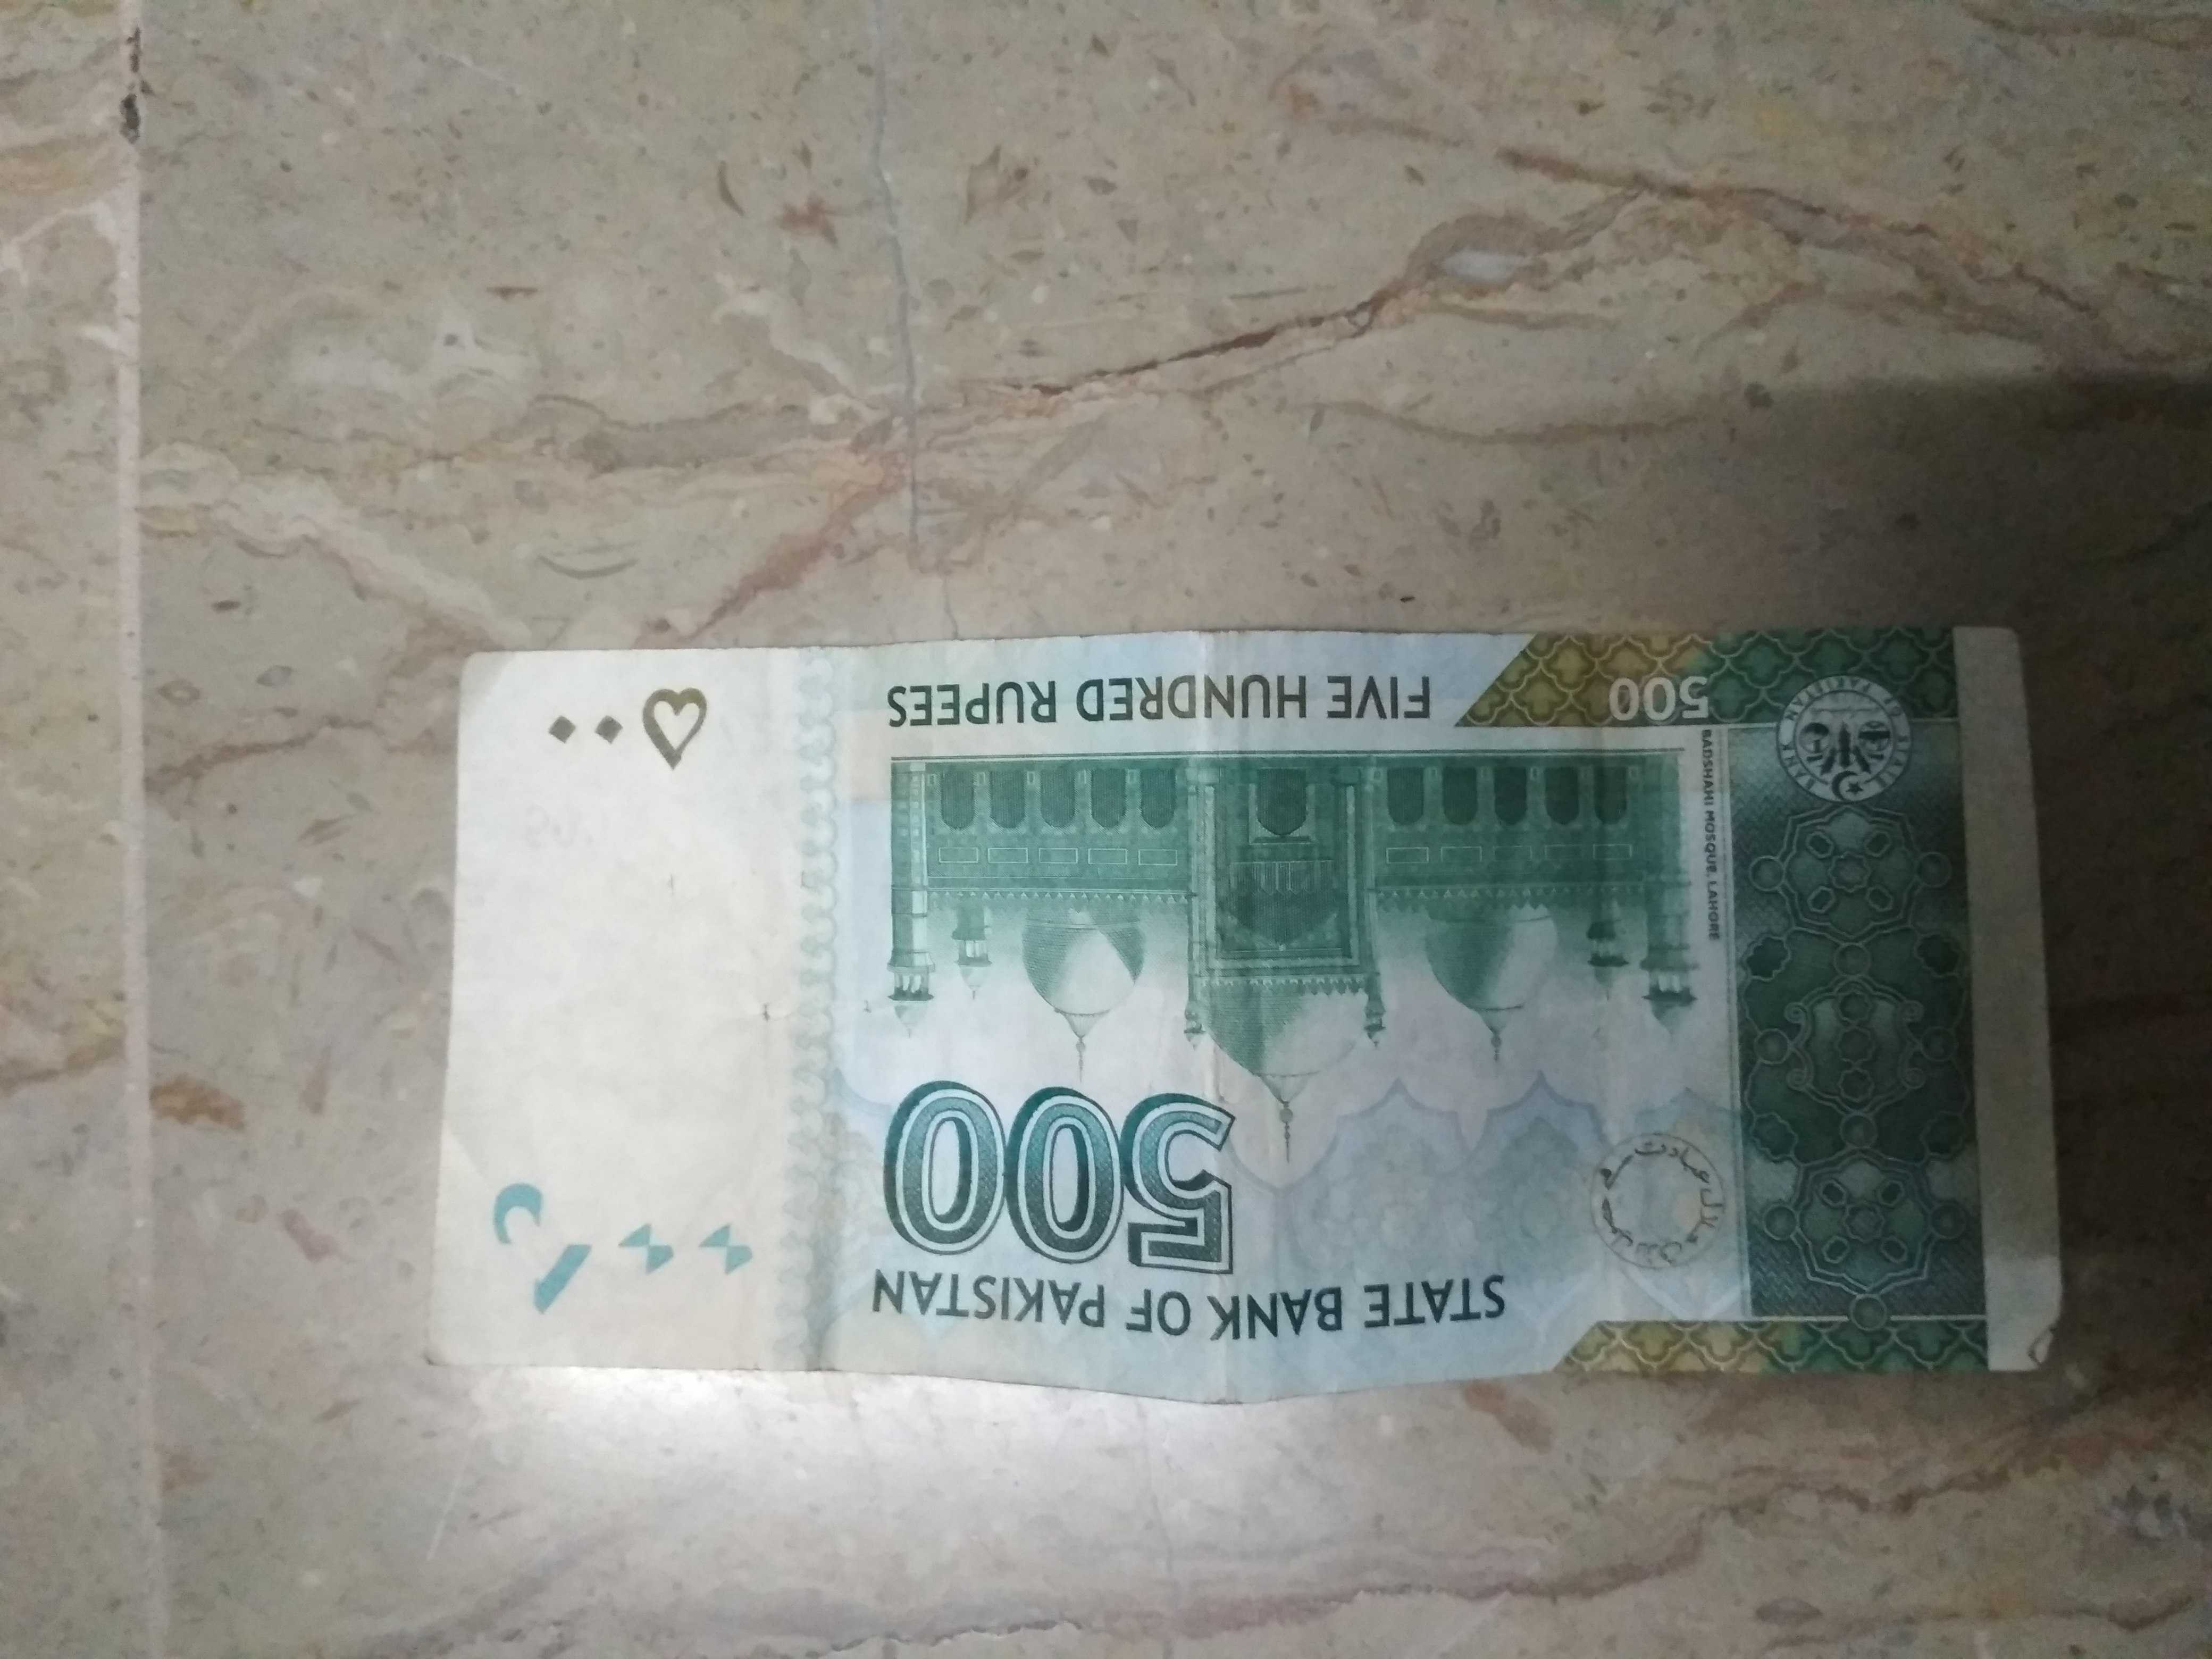500 rupee: (371, 582, 2076, 1432)
